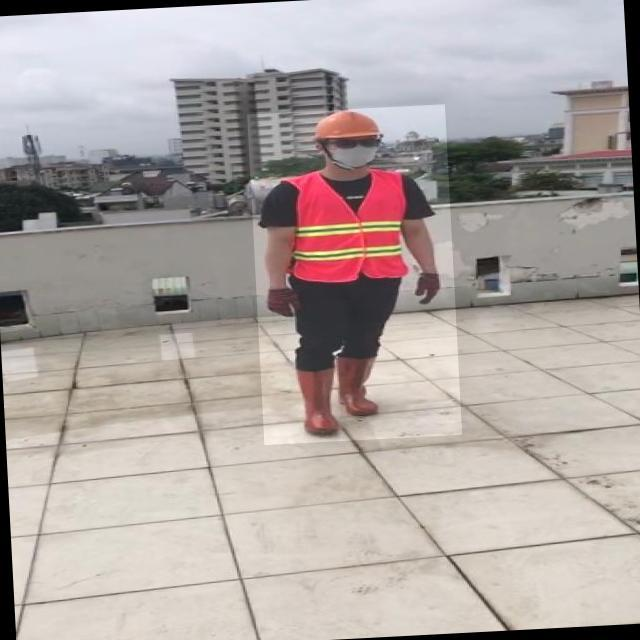Gloves: (265, 288, 300, 317), (417, 272, 439, 307)
Helmet: (307, 108, 386, 143)
Human: (247, 104, 462, 445)
Safety Boot: (295, 367, 341, 438), (337, 354, 386, 415)
Safety Vest: (283, 169, 407, 285)
